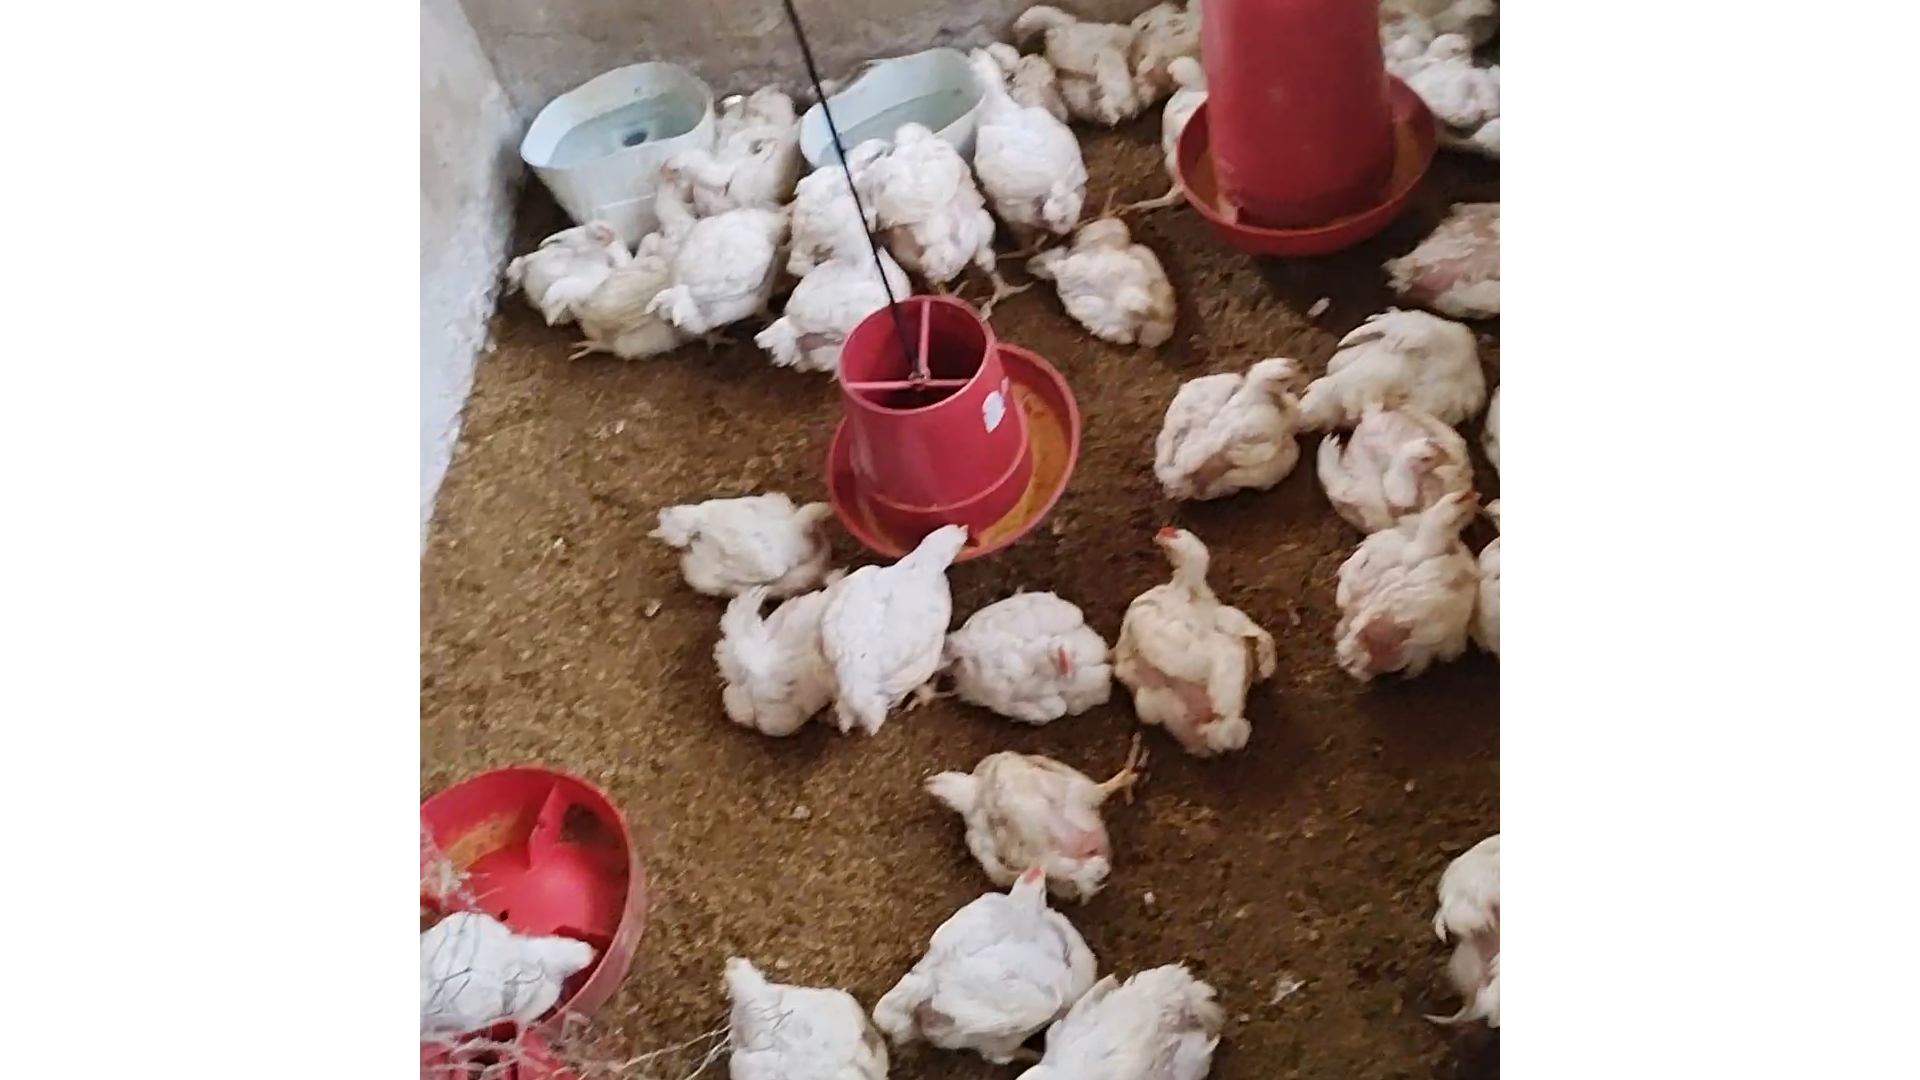Pollos: (909, 738, 1160, 920), (1114, 513, 1276, 773), (870, 857, 1080, 1058), (818, 520, 976, 737), (862, 117, 1033, 313), (988, 957, 1240, 1080), (1341, 479, 1477, 703), (955, 40, 1104, 232), (578, 156, 704, 372), (936, 589, 1127, 731), (644, 469, 843, 599), (1147, 342, 1309, 496), (691, 942, 868, 1080), (727, 574, 856, 753), (1291, 306, 1501, 407), (762, 244, 905, 389), (1313, 413, 1480, 537), (674, 171, 777, 363), (1026, 223, 1184, 343), (994, 0, 1139, 131), (644, 117, 818, 212), (505, 218, 630, 348), (767, 135, 893, 260)
